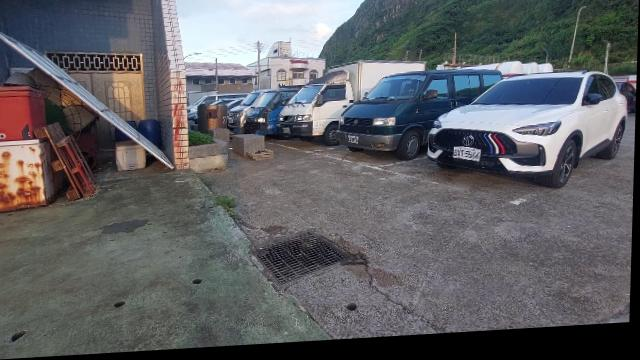pollute: (0, 70, 105, 213), (126, 121, 164, 152), (115, 142, 149, 174)
